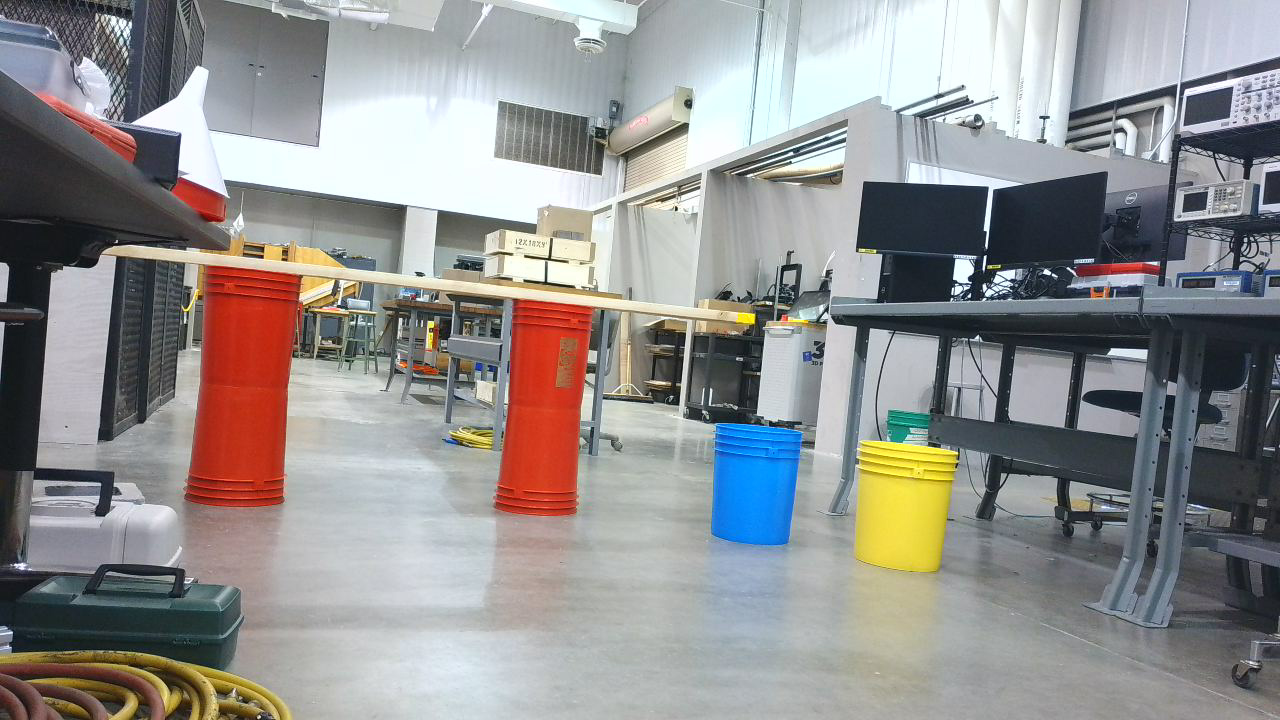blue_bucket: (709, 421, 810, 555)
red_bucket_arch: (181, 261, 600, 525)
yellow_bucket: (854, 441, 969, 581)
